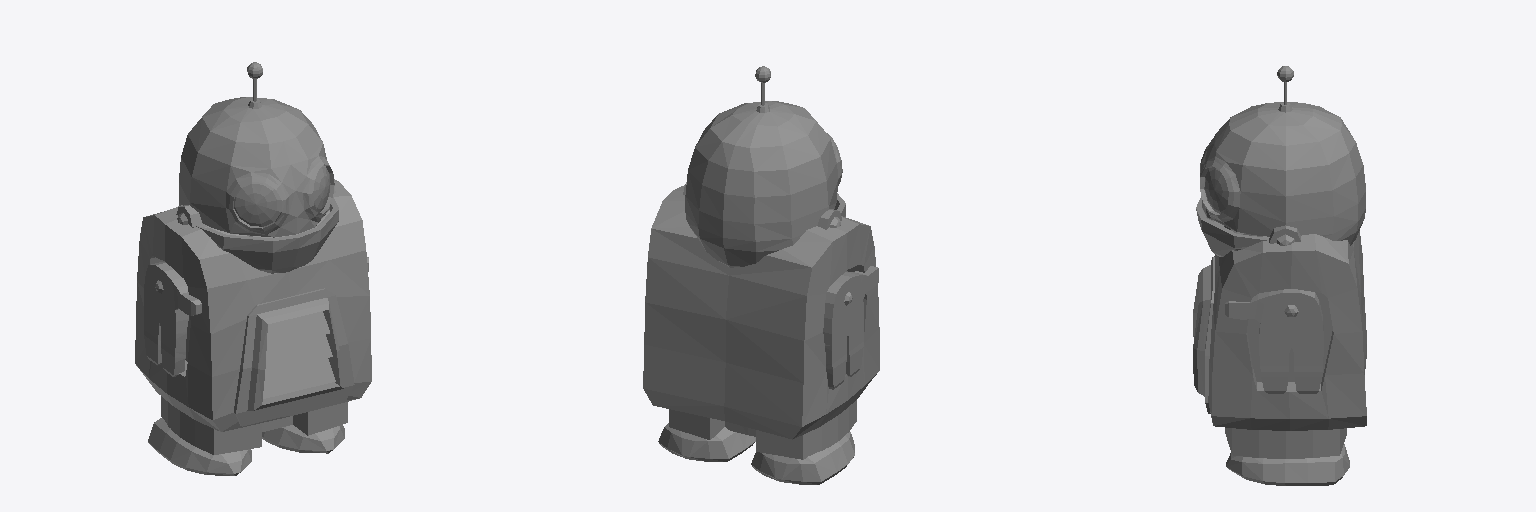
File: backpack.obj
The picture shows the model from 3 angles: view 1: azimuth 30°, elevation 25°; view 2: azimuth 150°, elevation 25°; view 3: azimuth 270°, elevation 25°; orthographic projection.
Parts seen in each view (by area): view 1: Mesh0; view 2: Mesh0; view 3: Mesh0.
Boxes of the visible parts, x1,y1,x2,y2 form: Mesh0: [135, 62, 371, 475]; Mesh0: [643, 66, 879, 484]; Mesh0: [1193, 66, 1366, 485].
Bounding box in the file's own units: 9.34 × 18.55 × 7.68.